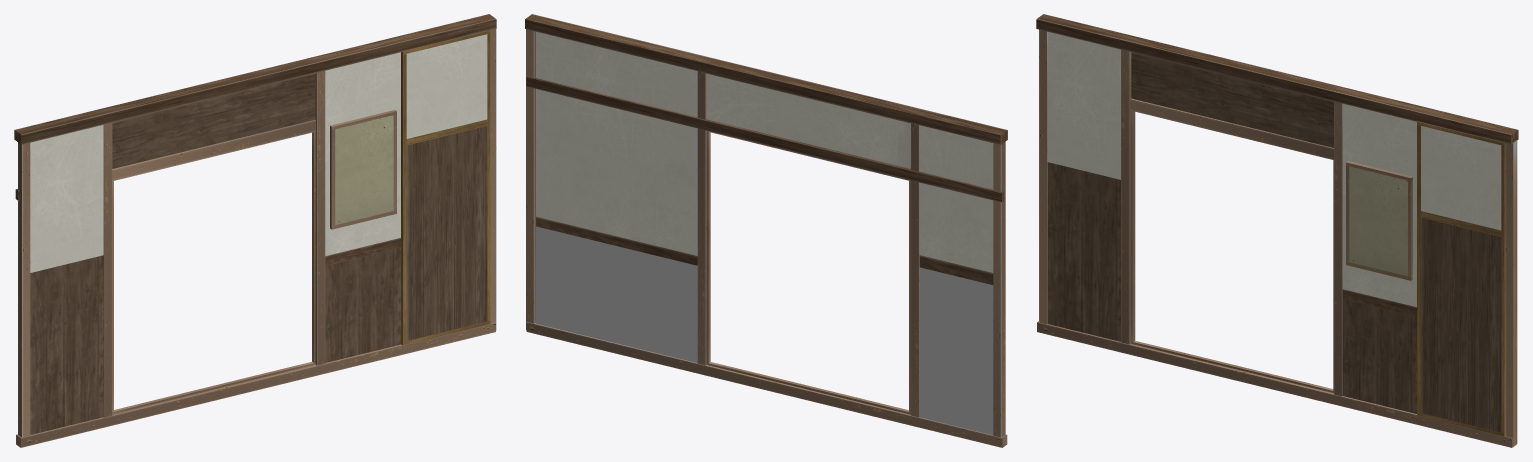
File: shop_ramen.fbx
The picture shows the model from 3 angles, left to right: view 1: azimuth 30°, elevation 25°; view 2: azimuth 150°, elevation 25°; view 3: azimuth 330°, elevation 25°; orthographic projection.
Visible parts, largest first — view 1: shop_ramen; view 2: shop_ramen; view 3: shop_ramen.
Part boxes in pixels (<box>): shop_ramen: <box>14,14,496,447</box>; shop_ramen: <box>525,14,1007,447</box>; shop_ramen: <box>1036,14,1518,447</box>.
Size of the model in its own units: 5.41 by 3.41 by 0.1471.
